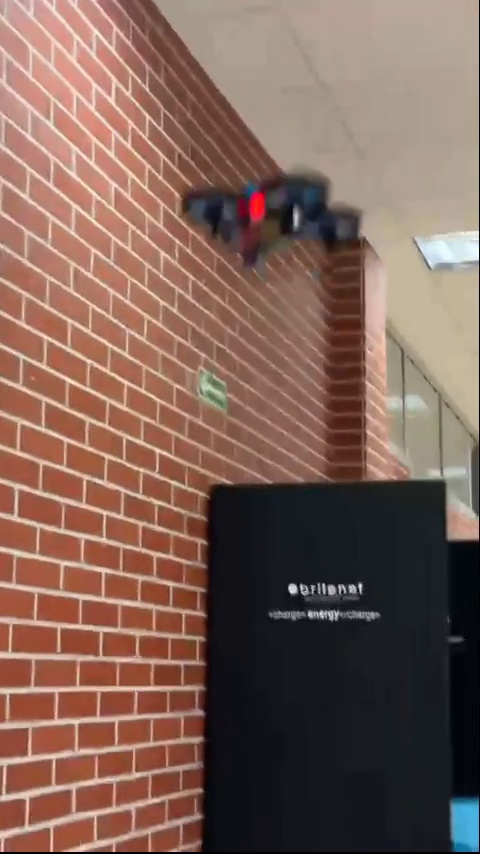drone: (176, 171, 357, 261)
